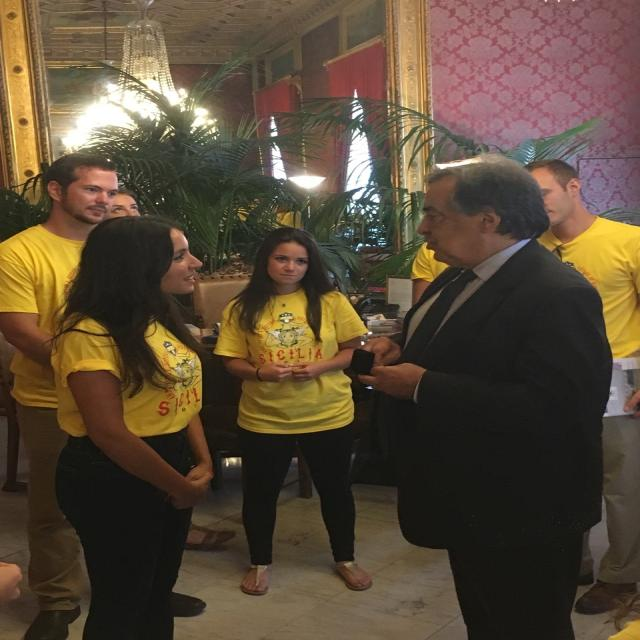body: (344, 148, 617, 640), (39, 212, 216, 640), (209, 224, 372, 598), (1, 154, 125, 640), (58, 212, 219, 550), (522, 158, 640, 616), (101, 178, 311, 224), (406, 239, 451, 309), (407, 240, 453, 308), (593, 586, 640, 640), (0, 561, 25, 603)
